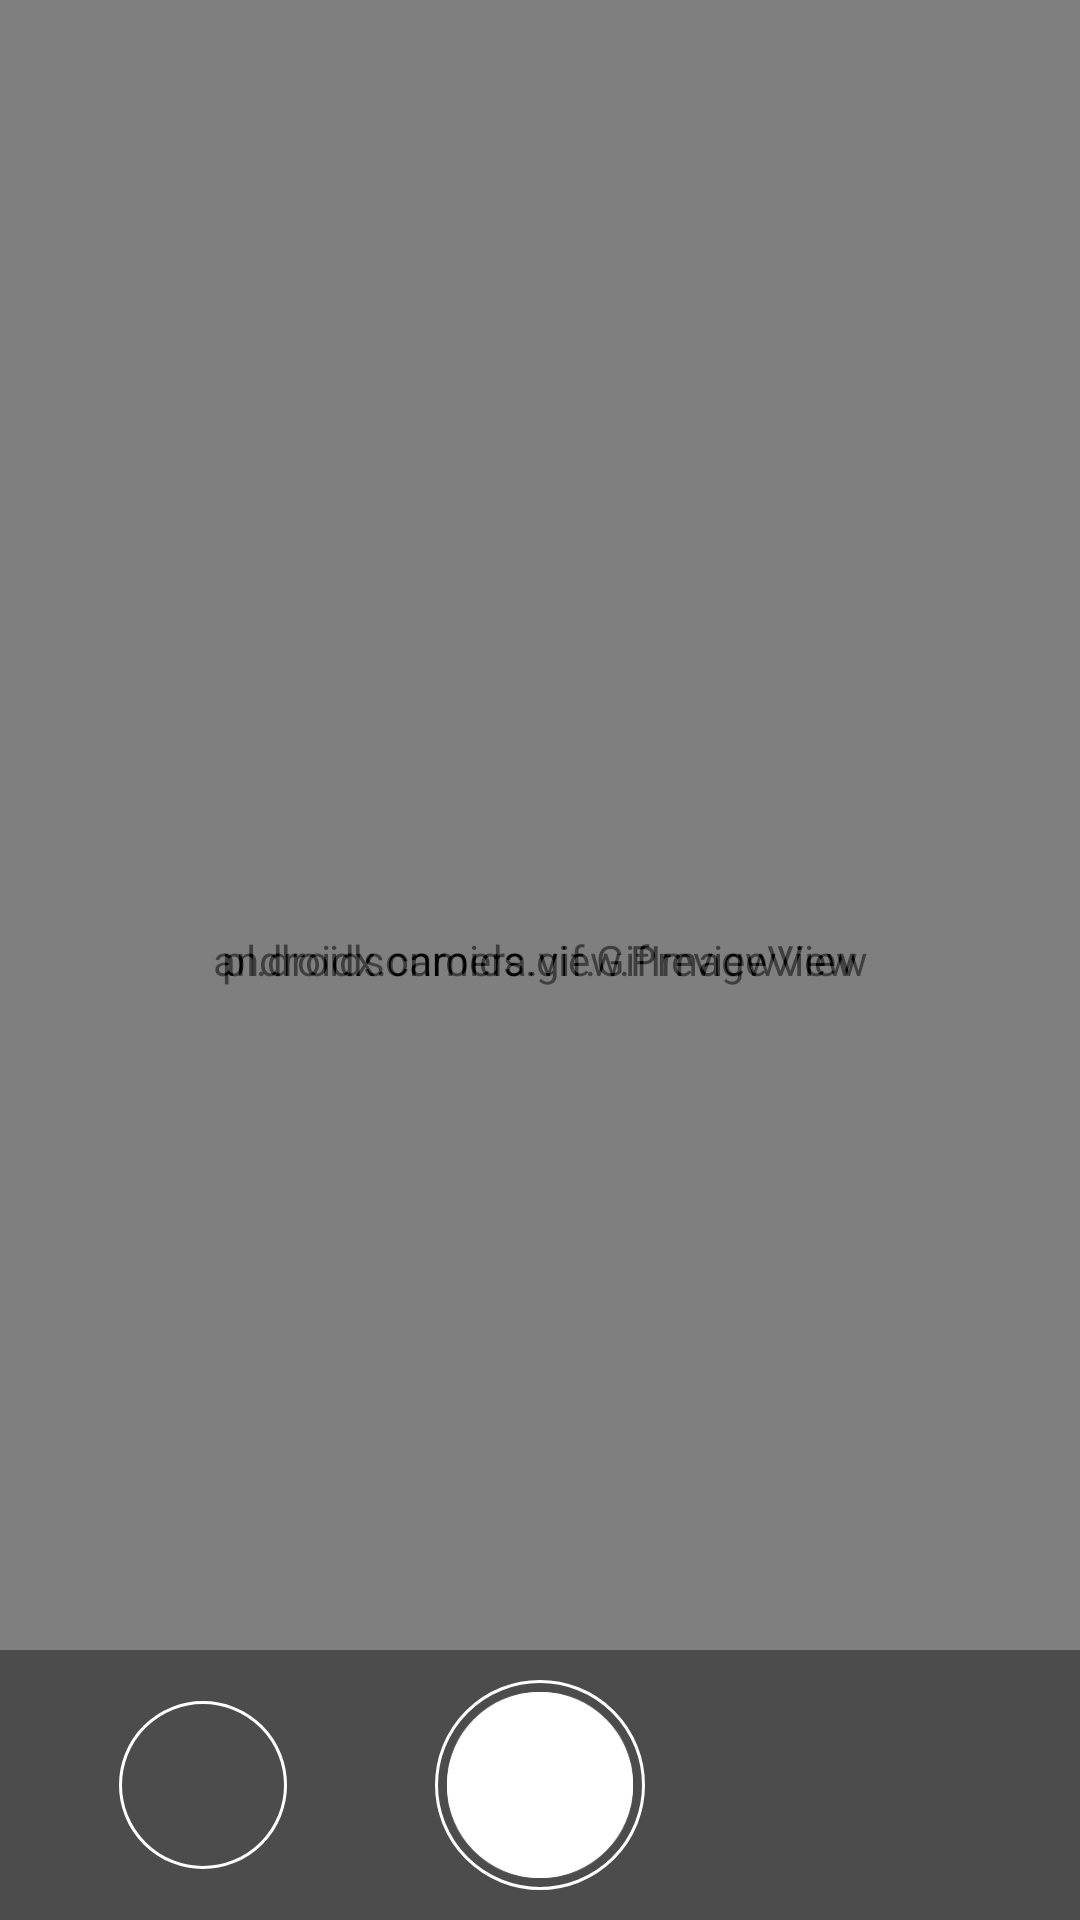

Icons on this 1080px x 1920px Android screen, each with its box as (x1, y1, x2, y2):
camera save: (435, 1680, 645, 1890)
